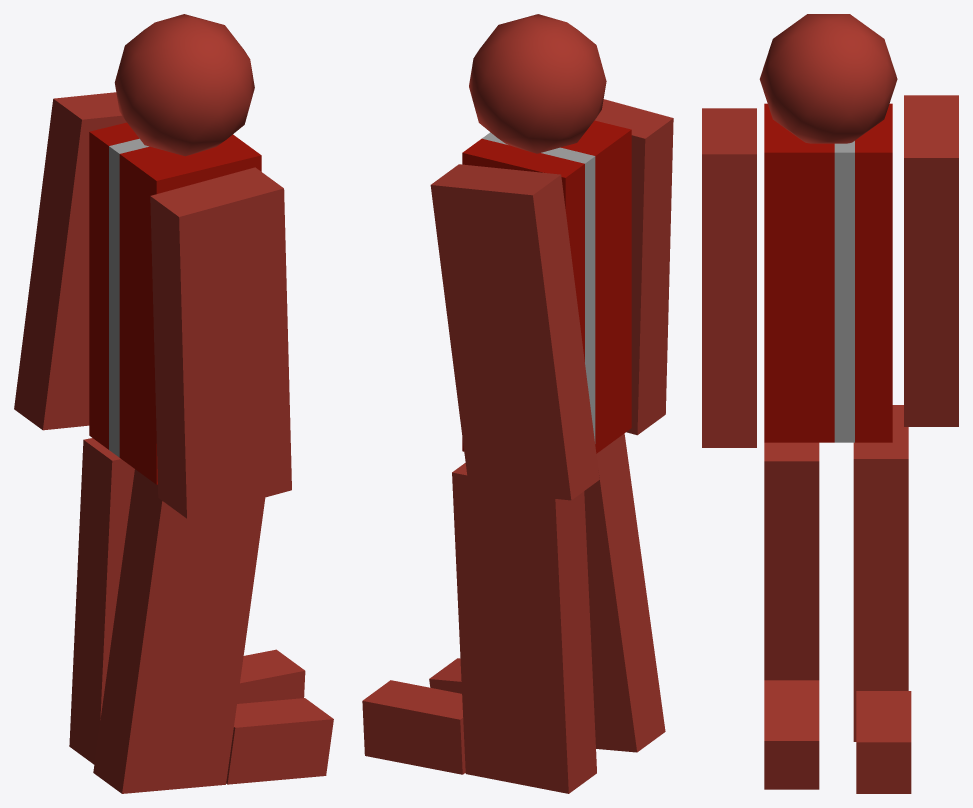
The model's file is player_000075.obj.
3 views of the same model, side by side, from view 1: azimuth 30°, elevation 25°; view 2: azimuth 150°, elevation 25°; view 3: azimuth 270°, elevation 25° (orthographic). The views are drawn at different scales.
Visible parts, largest first — view 1: Cube.013, Cube.010, Cube.007, Cube.012, Icosphere.001, Cube.008, Cube.011, Cube.009; view 2: Cube.012, Cube.008, Cube.007, Cube.010, Icosphere.001, Cube.013, Cube.009, Cube.011; view 3: Cube.007, Cube.013, Cube.012, Cube.008, Icosphere.001, Cube.010, Cube.011, Cube.009.
Boxes of the visible parts, x1,y1,x2,y2 form: Cube.013: (150,167,291,518); Cube.010: (93,469,265,793); Cube.007: (89,122,261,484); Cube.012: (14,92,126,430); Icosphere.001: (114,14,254,156); Cube.008: (69,438,134,764); Cube.011: (226,698,333,784); Cube.009: (237,649,305,703); Cube.012: (430,164,599,500); Cube.008: (452,463,596,793); Cube.007: (462,120,631,453); Cube.010: (584,433,665,752); Icosphere.001: (469,14,606,153); Cube.013: (594,99,673,435); Cube.009: (362,680,465,774); Cube.011: (429,658,461,693); Cube.007: (764,103,892,442); Cube.013: (702,108,756,447); Cube.012: (904,95,958,426); Cube.008: (853,405,908,741); Icosphere.001: (759,14,897,143); Cube.010: (764,442,819,680); Cube.011: (764,680,819,789); Cube.009: (856,691,911,793).
Size of the model in its own units: 0.9314 by 2.84 by 0.9137.
